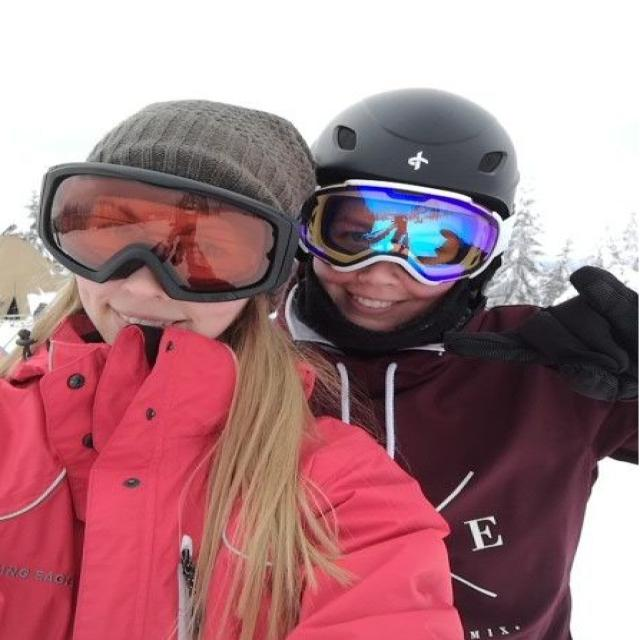hat: (89, 100, 306, 225)
helmet: (304, 86, 526, 219)
